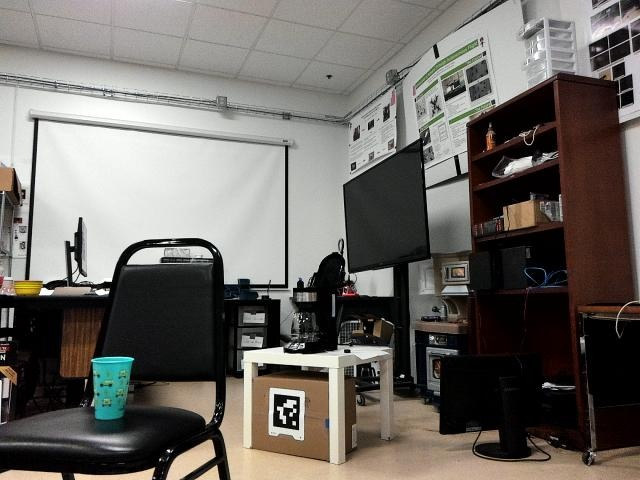coffee_cup: (88, 353, 134, 425)
